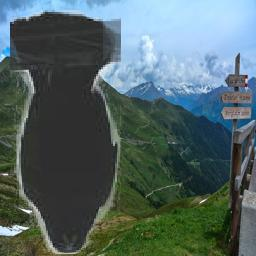Crow: (11, 10, 122, 254)
